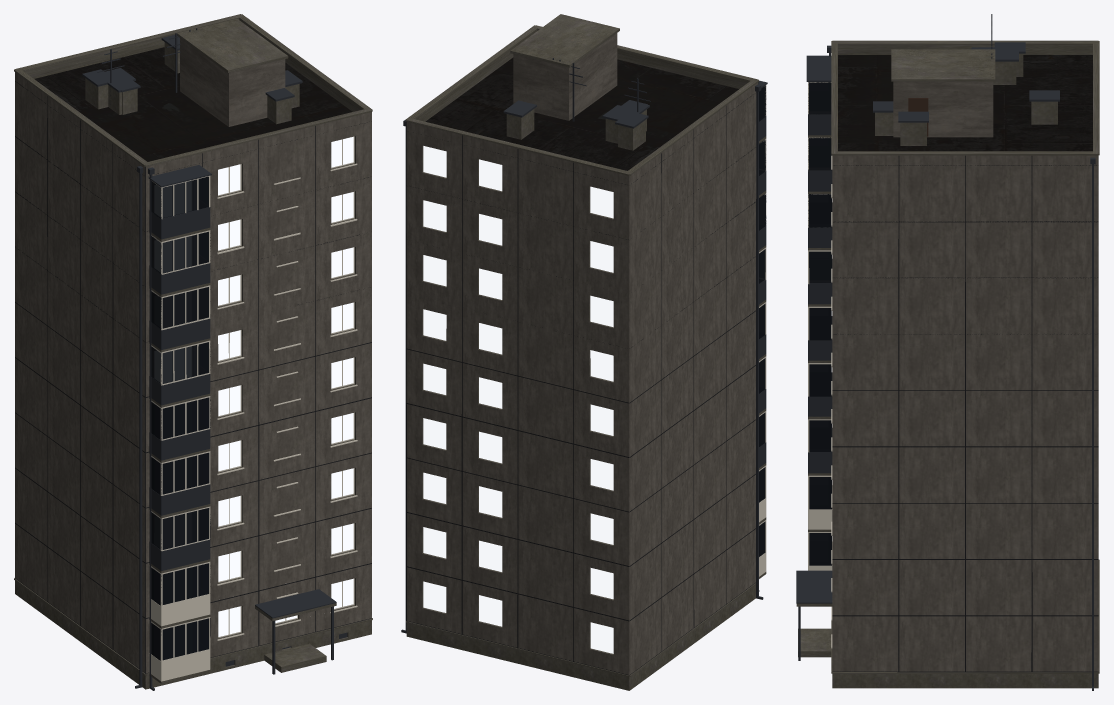
The model's file is spalnyi.glb.
3 views of the same model, side by side, from view 1: azimuth 30°, elevation 25°; view 2: azimuth 150°, elevation 25°; view 3: azimuth 270°, elevation 25° (orthographic). The views are drawn at different scales.
Visible parts, largest first — view 1: p9_end_l, p9_entry, p9_end_r, p9_section; view 2: p9_end_l, p9_entry, p9_end_r, p9_section; view 3: p9_end_r, p9_end_l, p9_entry, p9_section.
Boxes of the visible parts, x1=… form: p9_end_l: x1=14, y1=14, x2=372, y2=690; p9_entry: x1=102, y1=18, x2=371, y2=681; p9_end_r: x1=82, y1=14, x2=372, y2=659; p9_section: x1=97, y1=35, x2=208, y2=568; p9_end_l: x1=406, y1=25, x2=766, y2=690; p9_entry: x1=406, y1=14, x2=766, y2=648; p9_end_r: x1=401, y1=25, x2=767, y2=633; p9_section: x1=503, y1=78, x2=766, y2=448; p9_end_r: x1=806, y1=42, x2=1098, y2=690; p9_end_l: x1=808, y1=40, x2=1099, y2=673; p9_entry: x1=796, y1=48, x2=1018, y2=671; p9_section: x1=808, y1=14, x2=1059, y2=471.
Size of what is drawn, in the model's own units: 12.8 by 29 by 13.67.
10 materials, 3 textured.
